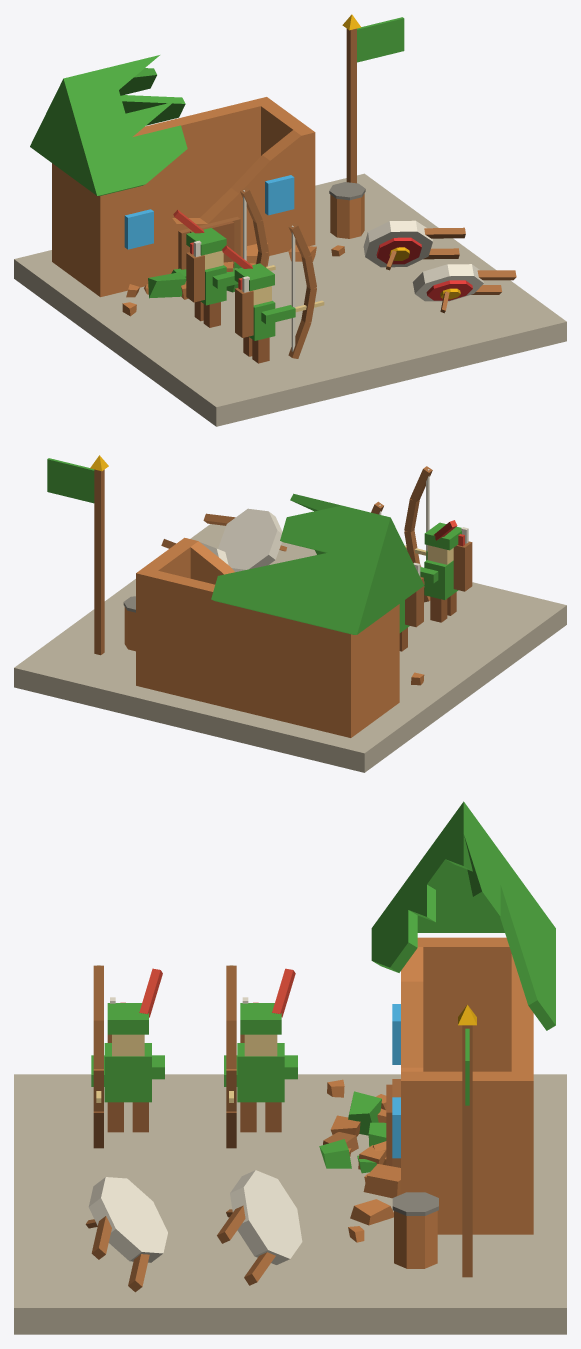
Rendered from archery_range_t2_v1_dmg1.glb.
3 renders of one model, top to bottom at view 1: azimuth 30°, elevation 25°; view 2: azimuth 150°, elevation 25°; view 3: azimuth 270°, elevation 25°, orthographic. The views are drawn at different scales.
Visible parts, largest first — view 1: archery_range_t2_v1_dmg1; view 2: archery_range_t2_v1_dmg1; view 3: archery_range_t2_v1_dmg1.
Boxes of the visible parts, x1,y1,x2,y2 form: archery_range_t2_v1_dmg1: (14,14,566,426); archery_range_t2_v1_dmg1: (14,455,566,772); archery_range_t2_v1_dmg1: (14,801,566,1334).
Bounding box in the file's own units: 0.755 × 0.46 × 0.75.
Materials: 1 (1 with a texture image).
